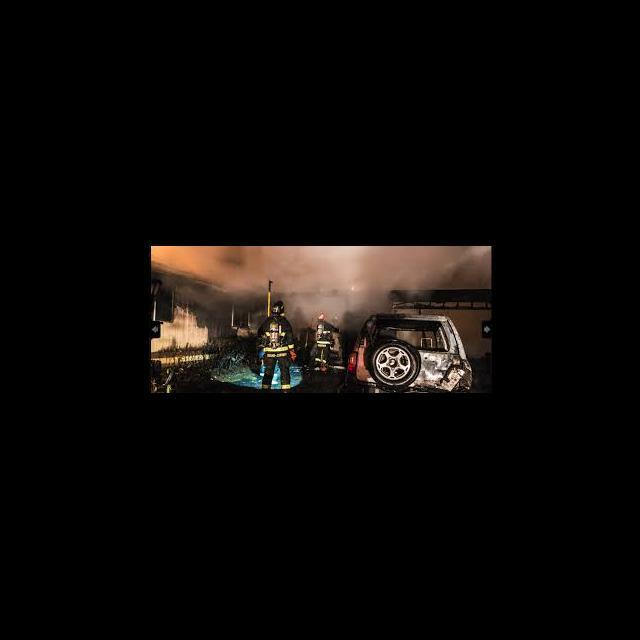Smoke: (180, 247, 488, 284), (287, 288, 380, 320)
